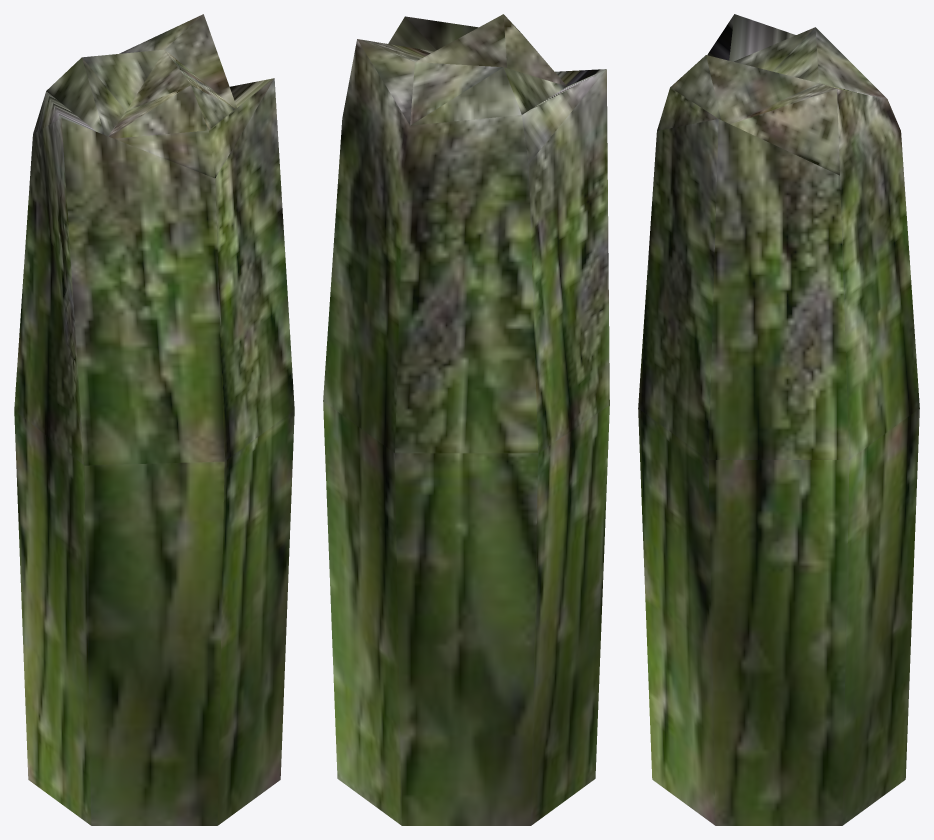
Rendered from Asparagus.glb.
3 renders of one model, left to right at view 1: azimuth 30°, elevation 25°; view 2: azimuth 150°, elevation 25°; view 3: azimuth 270°, elevation 25°, orthographic. The views are drawn at different scales.
Parts seen in each view (by area): view 1: Asparagus; view 2: Asparagus; view 3: Asparagus.
Part boxes in pixels (bbox=[...]): Asparagus: bbox=[14, 14, 294, 825]; Asparagus: bbox=[323, 14, 609, 825]; Asparagus: bbox=[638, 14, 919, 825].
Size of the model in its own units: 0.1409 by 0.4436 by 0.1554.
Materials: 1 (1 with a texture image).
